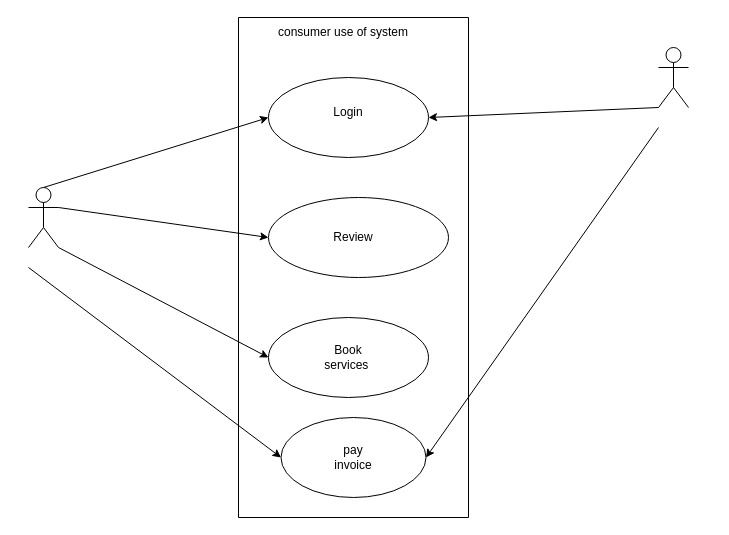
Image size: 729x535. Some labels were removed from this diagram. Here are the shapes that lost their labels. From the top down, the box of each, then its label:
(658, 46, 688, 108): Authentication
(28, 186, 58, 248): consumer
